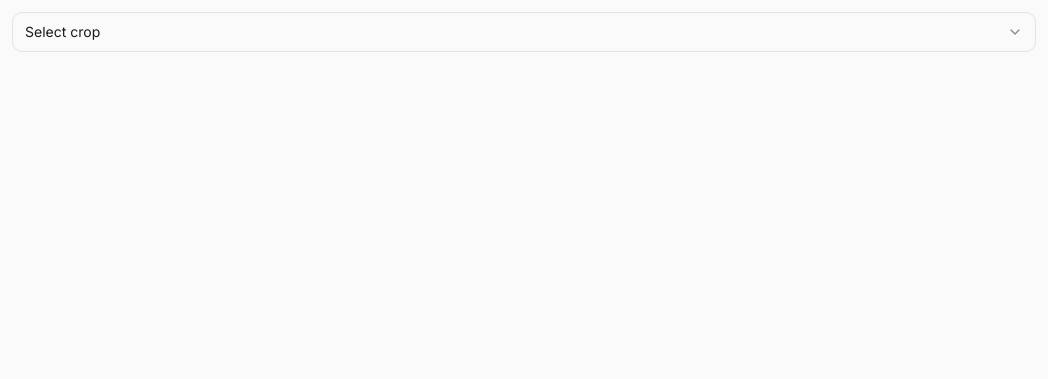
Test: CatalogueSelectItems › lists only the market's items
Click the dropdown labelled "crop" at (63, 32), box x1=12 y1=12 x2=1036 y2=52
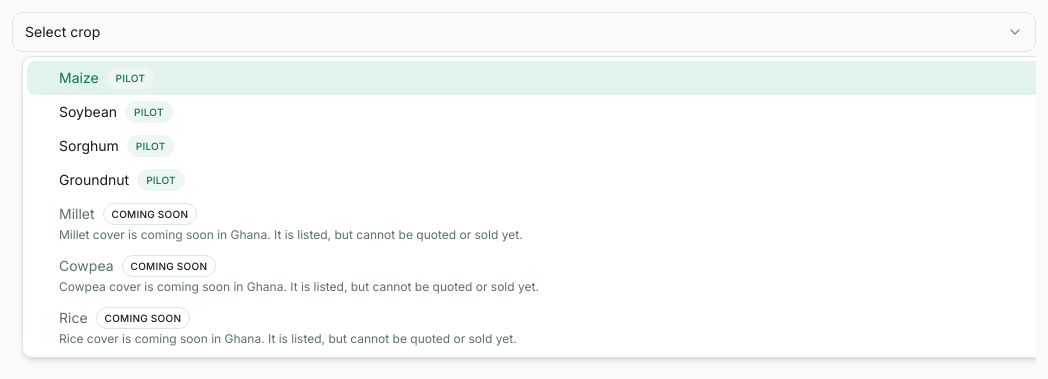
Check: the number of options is 7
